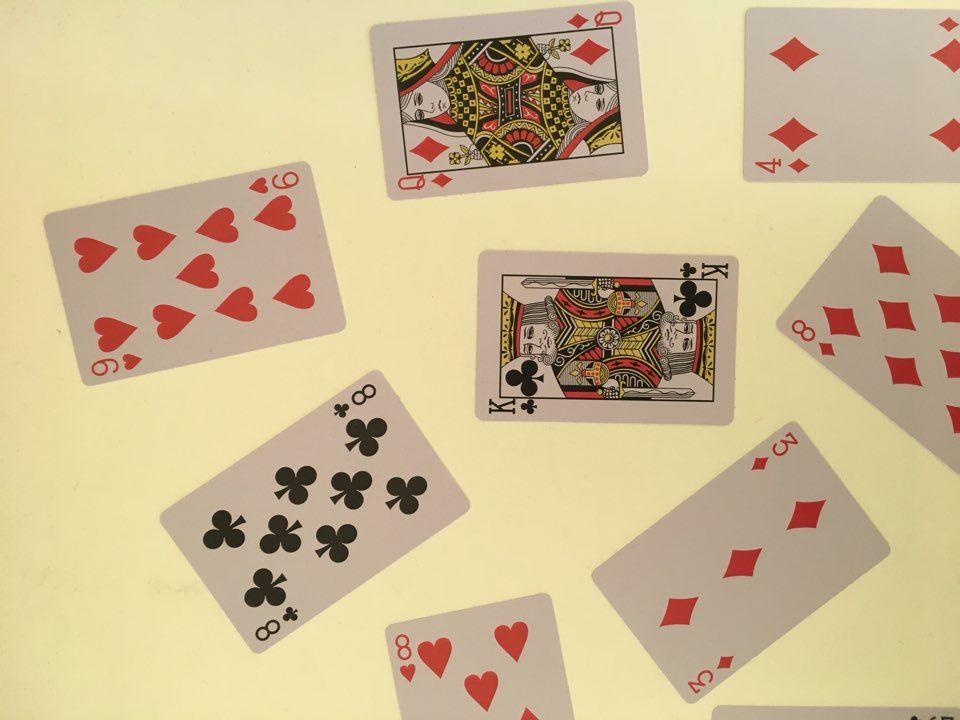king: (466, 236, 746, 439)
nine: (36, 155, 360, 390)
queen: (363, 1, 653, 207)
